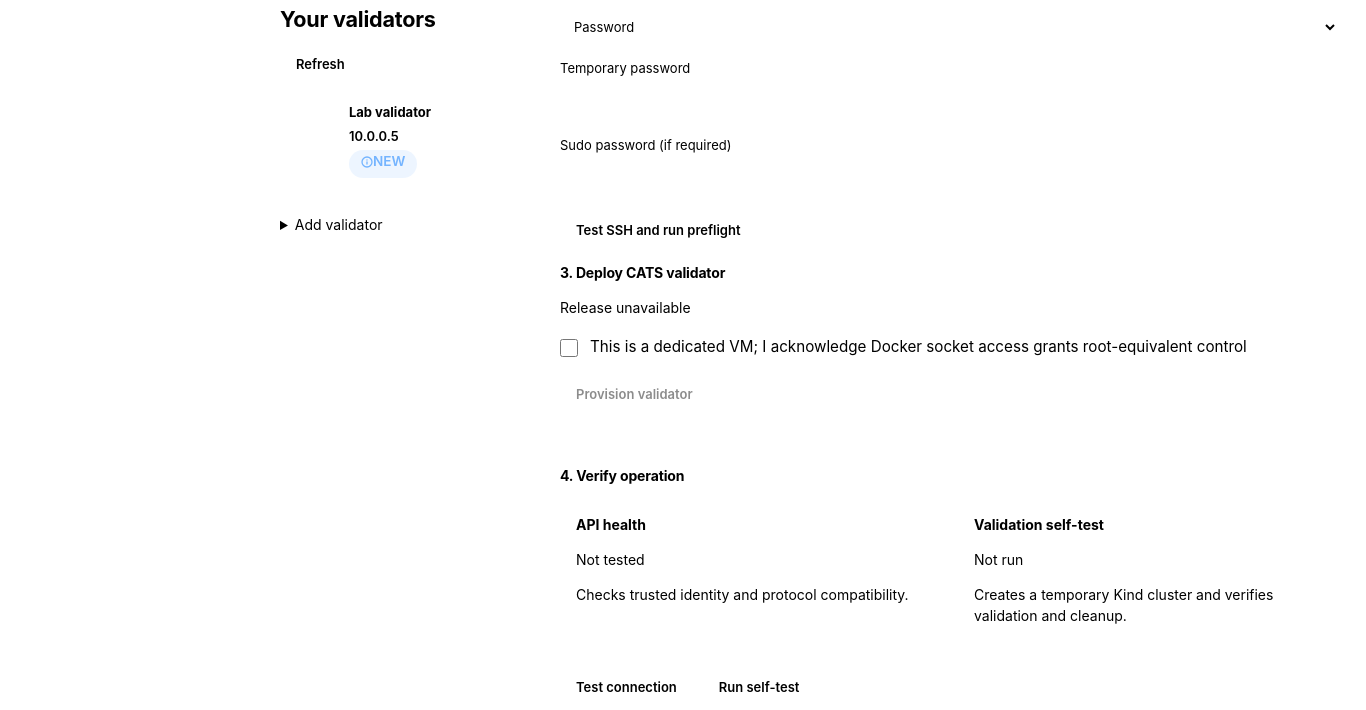
Test: managed validators › refreshes release readiness so a newly mounted verified release permits provisioning
This screenshot has width=1366, height=710.
(page scrolled)
Click the checkbox named "This is a dedicated VM; I acknowledge Docker socket access grants root-equivalent control" at (569, 348), box [560,339,578,357]
(page scrolled)
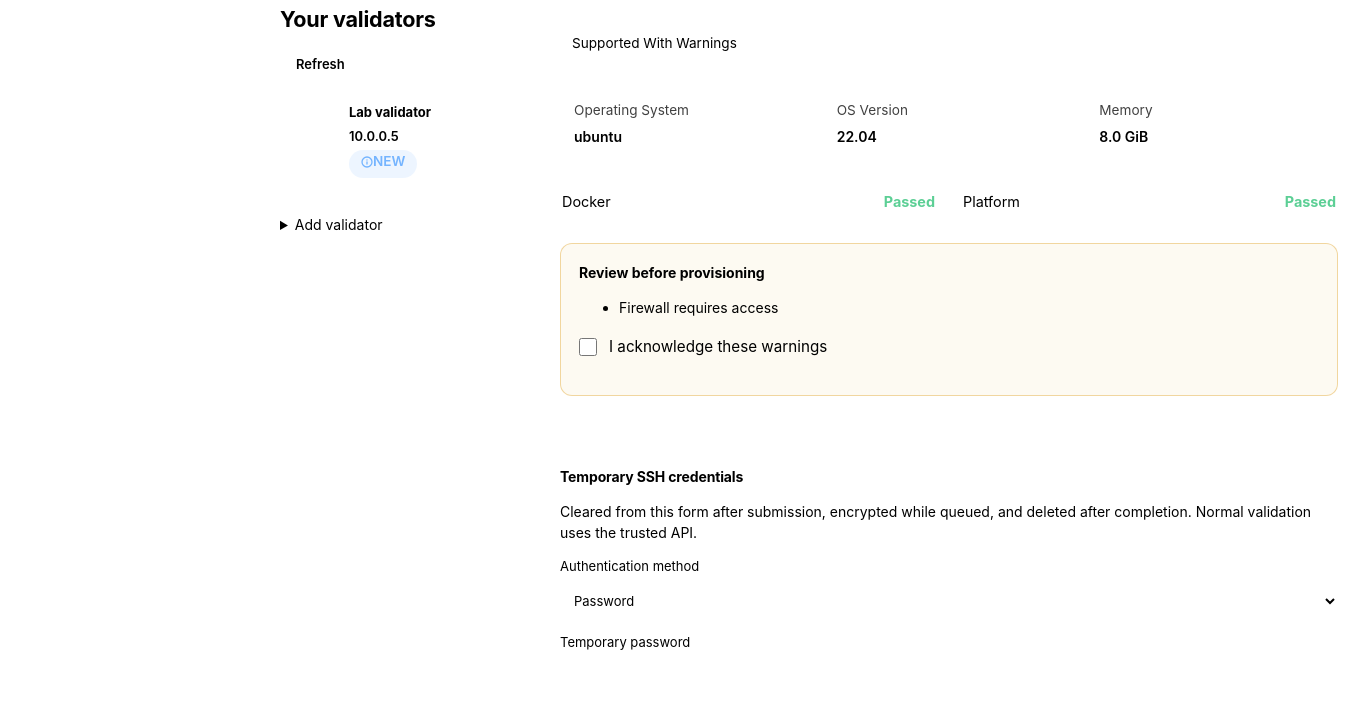
Click the checkbox labelled "I acknowledge these warnings" at (588, 347), box [579,338,597,356]
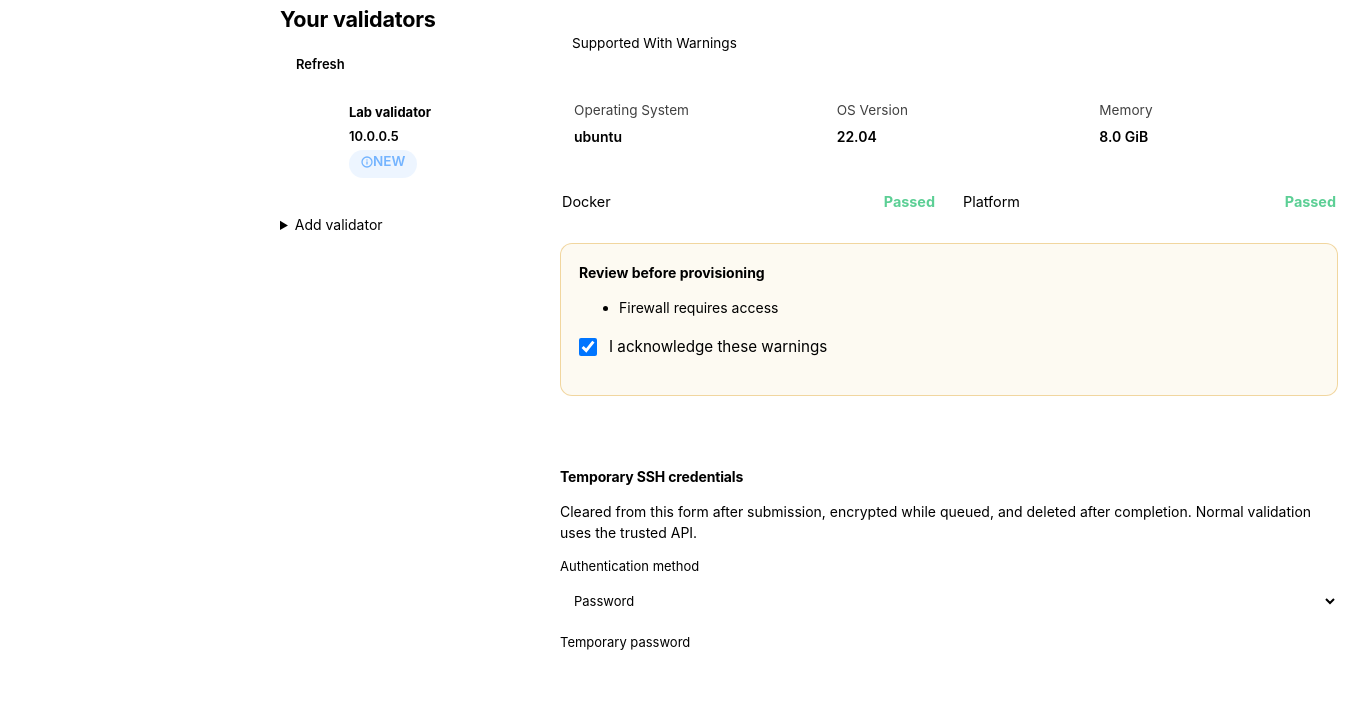
Click the button "Refresh" at (320, 65), box [280,47,361,83]
(page scrolled)
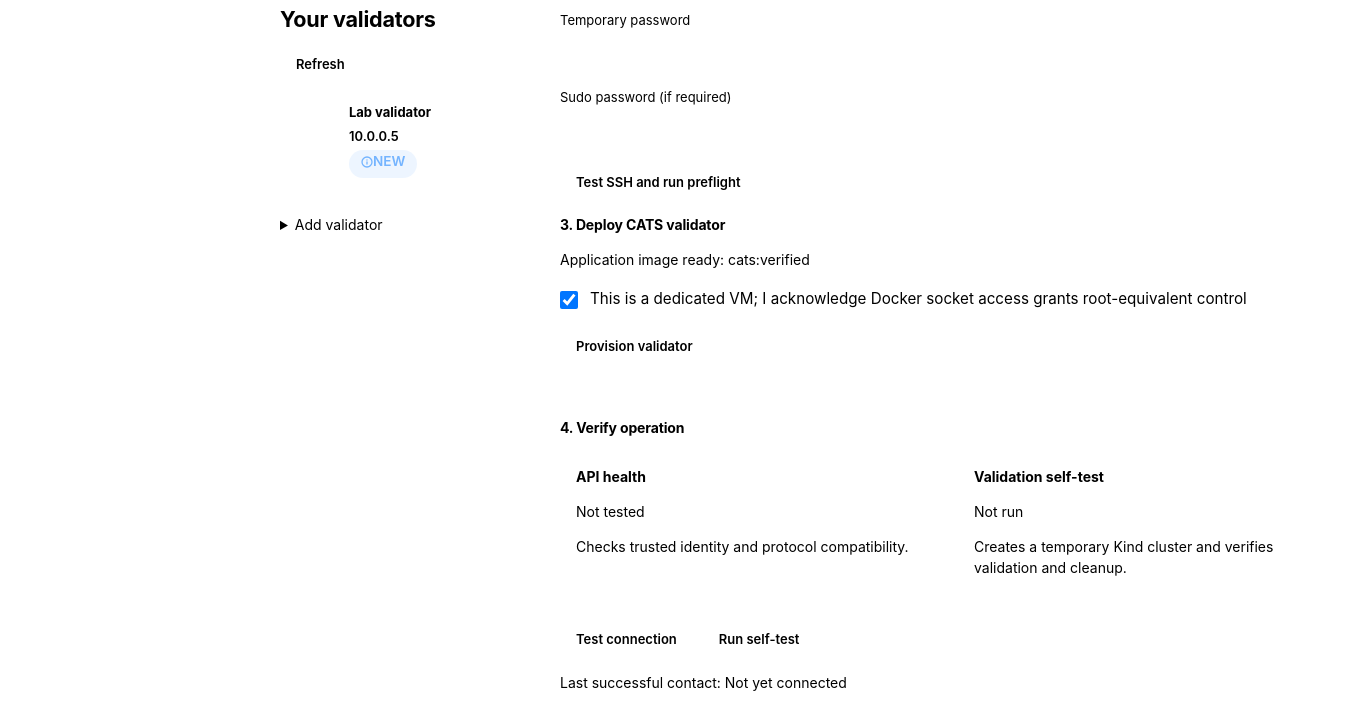
Result: the text "Application image ready: cats:verified" is shown at [560,251,810,268]
Result: the button "Provision validator" is enabled at [560,329,709,365]
